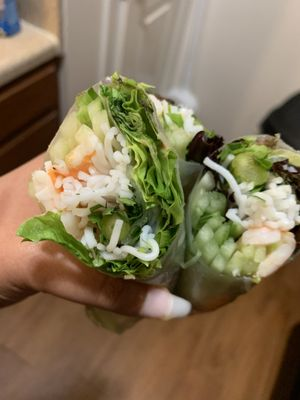soup: (2, 67, 300, 319)
